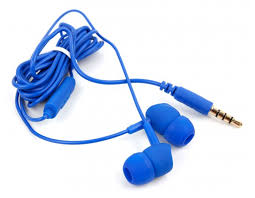earphone: (10, 6, 250, 188)
